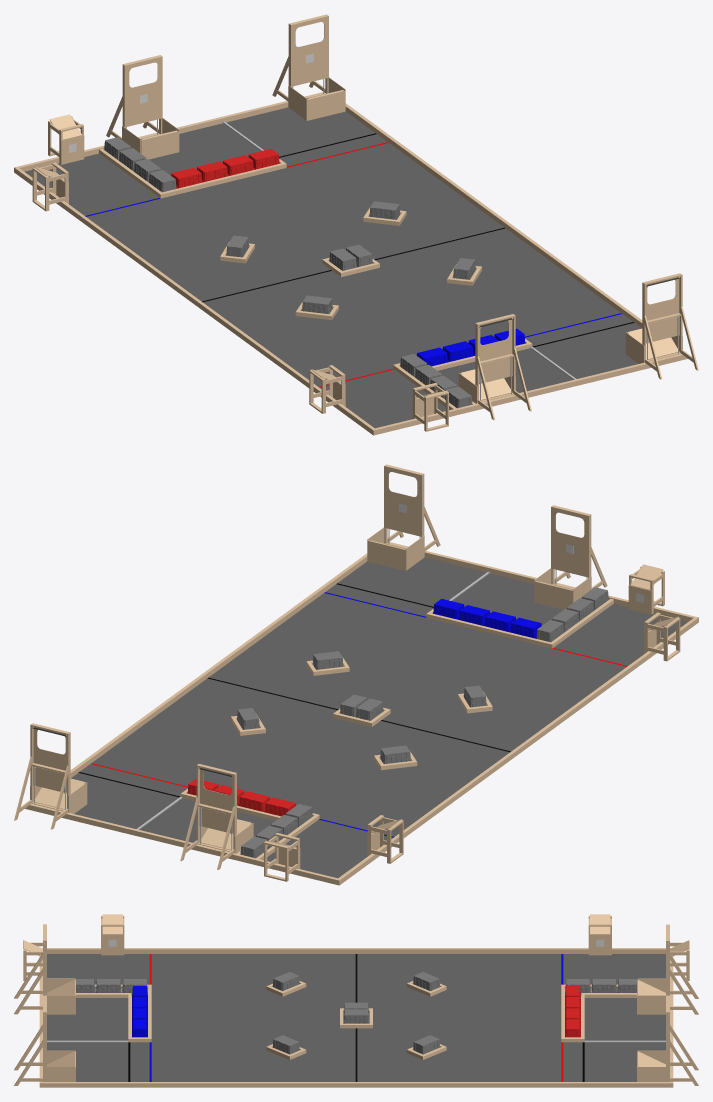
3 renders of one model, top to bottom at view 1: azimuth 30°, elevation 25°; view 2: azimuth 150°, elevation 25°; view 3: azimuth 270°, elevation 25°, orthographic. The views are drawn at different scales.
Parts seen in each view (by area): view 1: Carpet, Field Perimeter (temp), 40" x 62" x 1/2" Ply (×4), 40" x 21" x 1/2" ply (×2); view 2: Carpet, Field Perimeter (temp), 40" x 62" x 1/2" Ply (×4), 40" x 21" x 1/2" ply (×2); view 3: Carpet, Field Perimeter (temp), 33-1/2" x 22" x 1/2" ply (×4), 24" x 24" x 1/2" ply (×2), 26" x 21" x 1/2" ply (×2), 37" x 34-1/2" x 1/2" ply.
Boxes of the visible parts, x1,y1,x2,y2 form: Carpet: (24, 107, 641, 428); Field Perimeter (temp): (14, 92, 687, 435); 40" x 62" x 1/2" Ply (×4): (124, 16, 679, 384); 40" x 21" x 1/2" ply (×2): (141, 90, 345, 159); Carpet: (71, 557, 688, 878); Field Perimeter (temp): (25, 542, 698, 885); 40" x 62" x 1/2" Ply (×4): (33, 466, 589, 834); 40" x 21" x 1/2" ply (×2): (367, 540, 572, 609); Carpet: (47, 954, 665, 1081); Field Perimeter (temp): (39, 948, 673, 1087); 33-1/2" x 22" x 1/2" ply (×4): (43, 995, 669, 1081); 24" x 24" x 1/2" ply (×2): (101, 934, 611, 955); 26" x 21" x 1/2" ply (×2): (102, 914, 610, 933); 37" x 34-1/2" x 1/2" ply: (637, 980, 665, 995).
Bounding box in the file's own units: 8.84 × 2.16 × 17.98.
